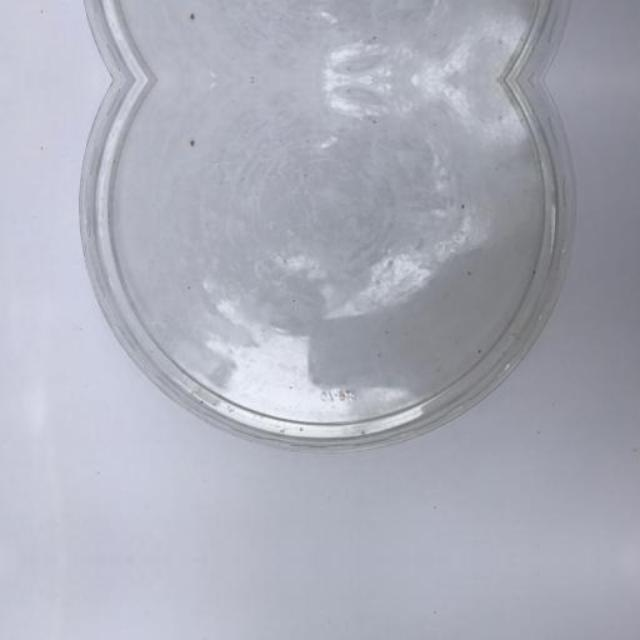Plastic: (58, 80, 588, 463), (58, 0, 588, 79)
